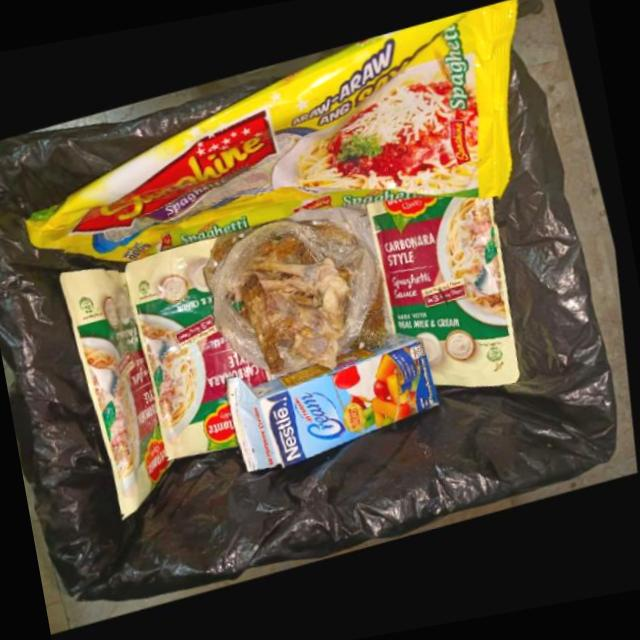bao_bi_thuc_pham: (30, 0, 518, 268), (130, 240, 275, 464), (370, 196, 527, 388), (64, 273, 175, 522)
thuc_an_thua: (244, 238, 356, 376)
tui_ni_long: (207, 209, 394, 378)
vo_hop_sua: (232, 335, 446, 475)
